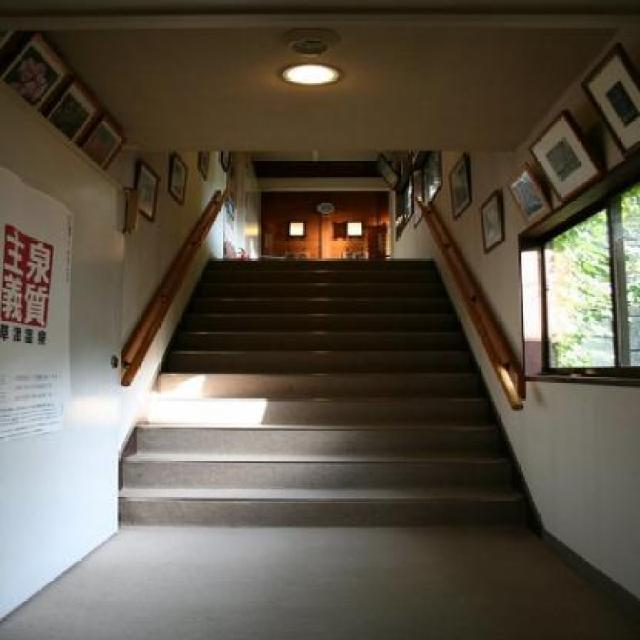stair: (162, 242, 462, 546)
